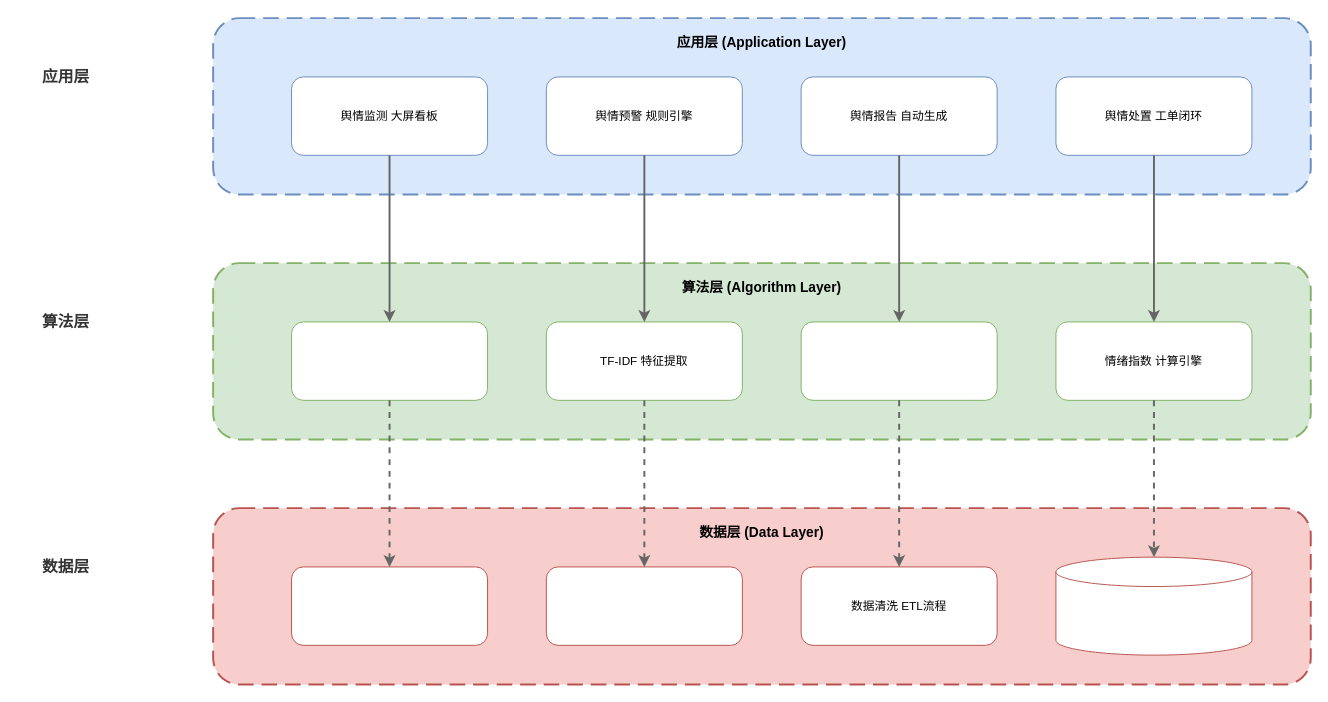
Some shapes in this 1328 by 702 pixel diagram are drawn without their labels. Each missing label, with the box of its shape:
jieba分词 停用词过滤: (291, 321, 488, 400)
情感模型 NB / RF / FinBERT: (800, 321, 997, 400)
数据存储 CSV / SQLite: (1055, 556, 1252, 655)
股吧爬虫 东方财富: (291, 566, 488, 645)
行情API AKShare: (545, 566, 742, 645)
